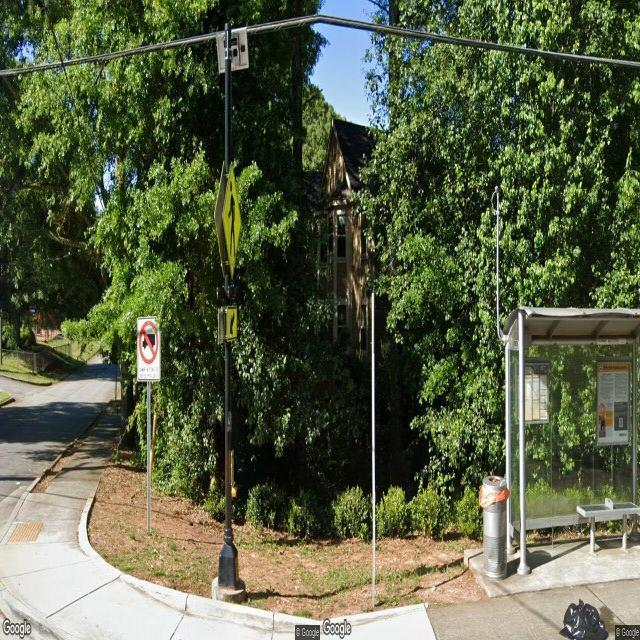seating: (575, 499, 639, 556)
shelter: (501, 306, 640, 576)
trash_can: (482, 479, 508, 582)
